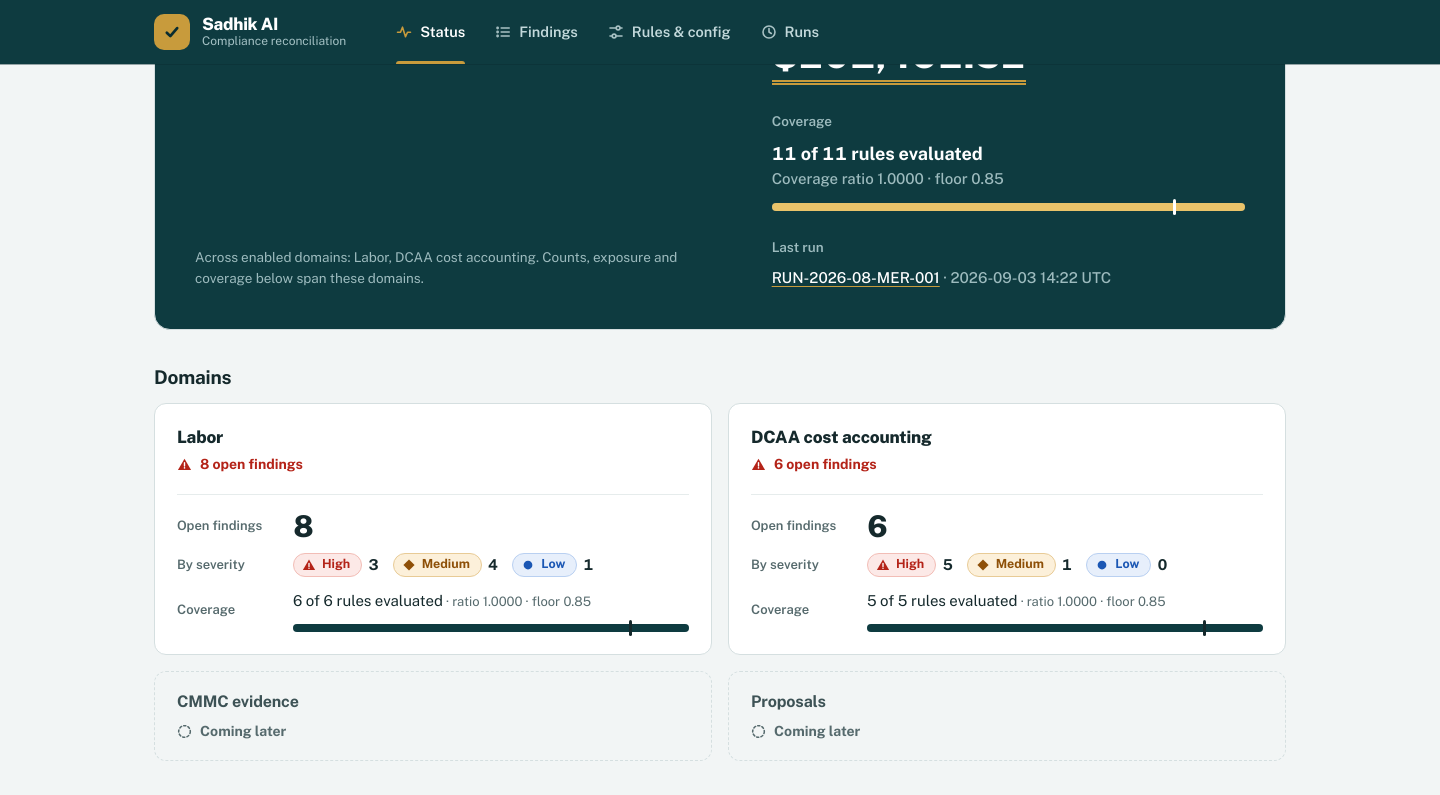
Test: status page › follows a domain tile to the queue filtered to that domain
The image size is (1440, 795).
(page scrolled)
Click the link "DCAA cost accounting 6 open findings".
click(841, 449)  # box [750,426,932,472]
(page scrolled)
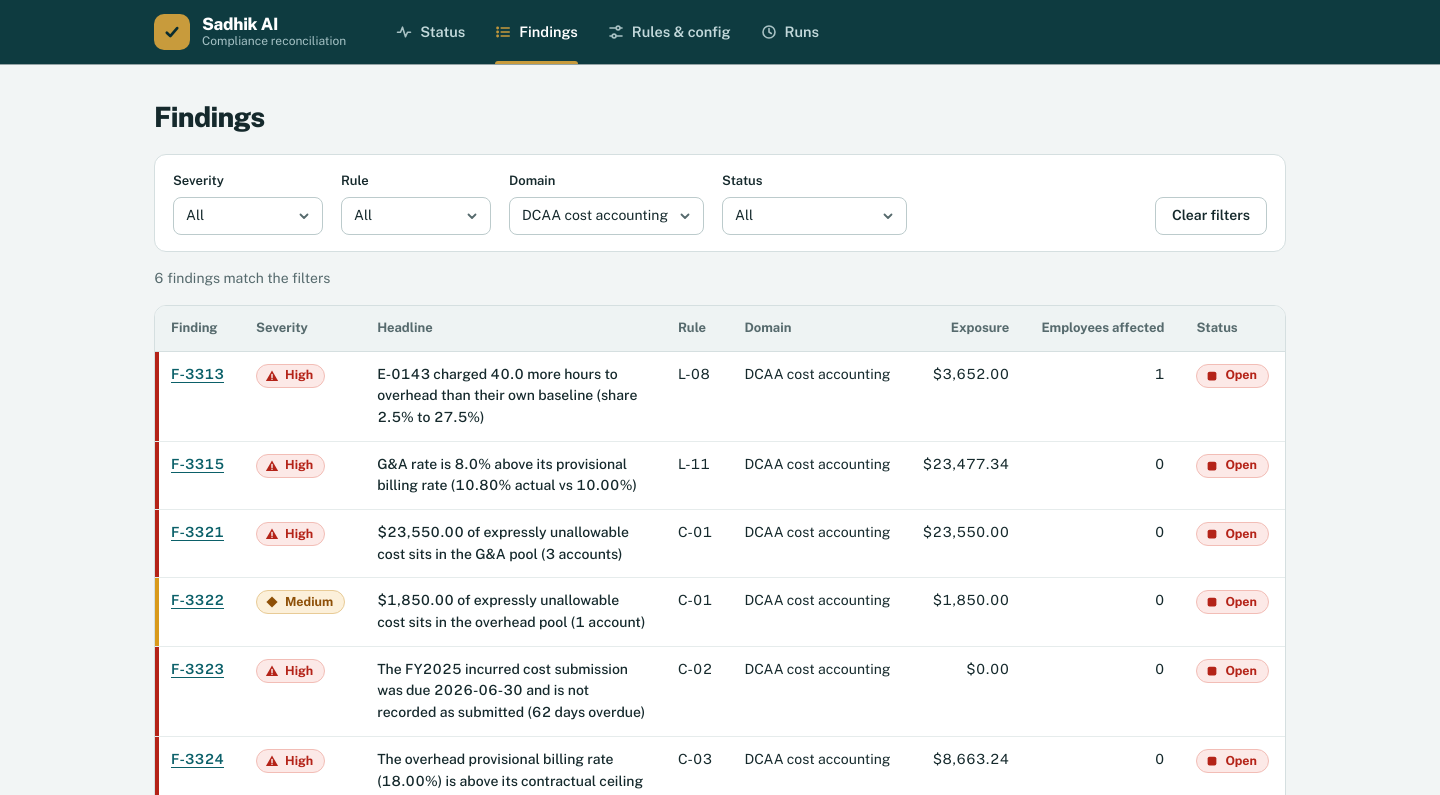
Check: the dropdown labelled "Domain" shows "DCAA cost accounting", box [509,197,704,235]
